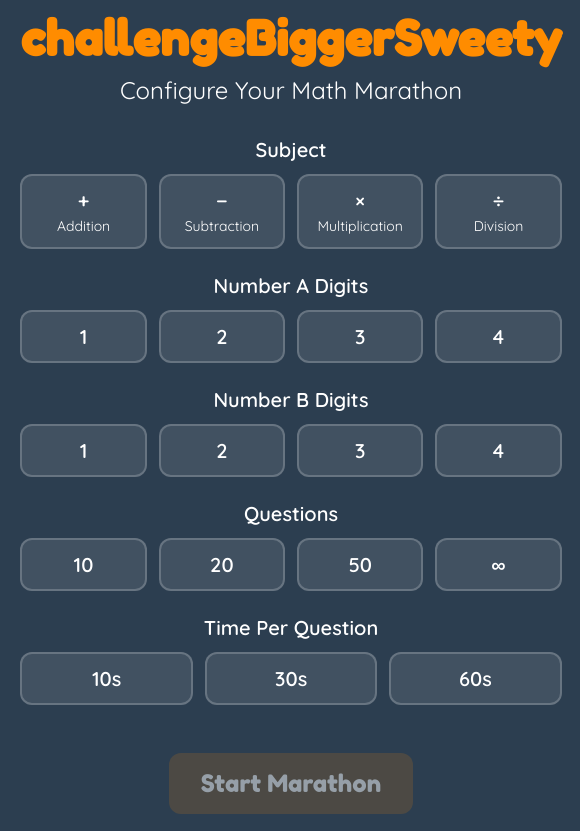
Test: ConfigurationSuite › Start Button Enable/Disable Logic › should enable start button when all parameters are selected
Select all parameters
Click the text "Addition": [84, 226] box [57,216,110,234]
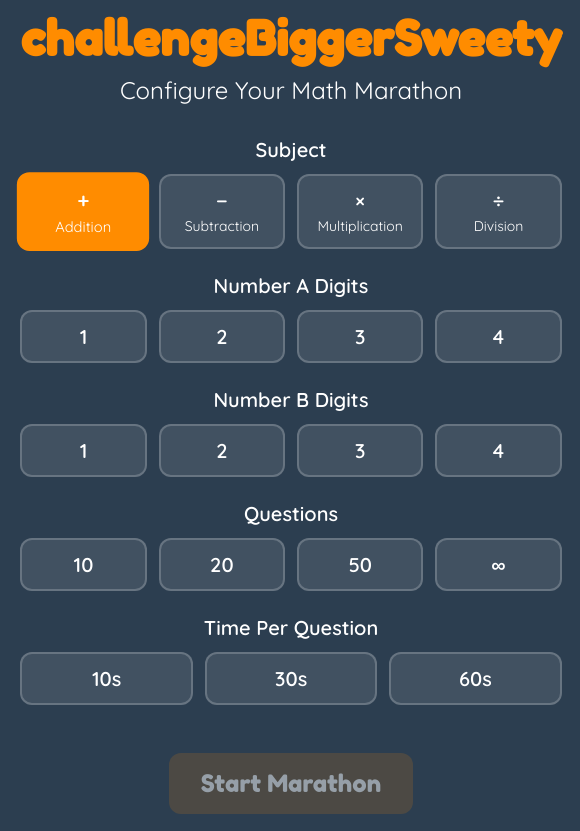
Click the button "2" below "Number A Digits": [222, 336] box [159,310,285,362]
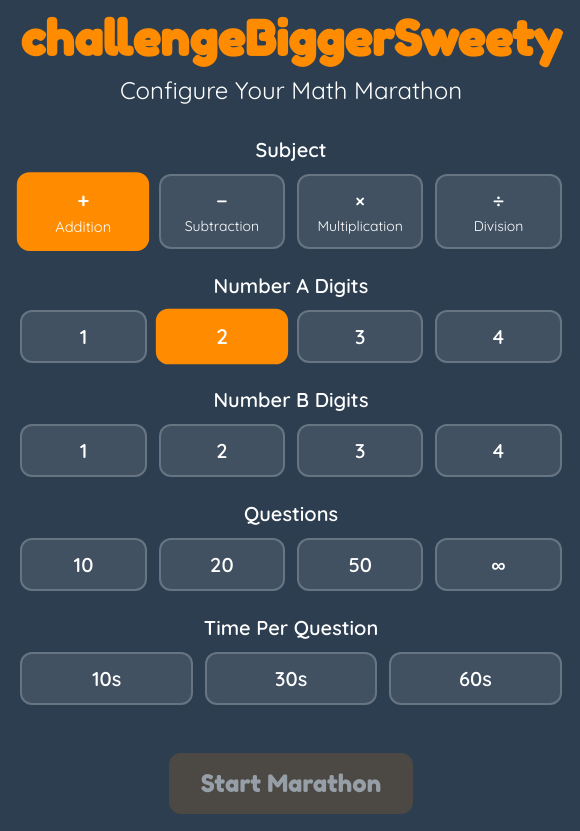
Click the button "2" below "Number B Digits": [222, 450] box [159,424,285,476]
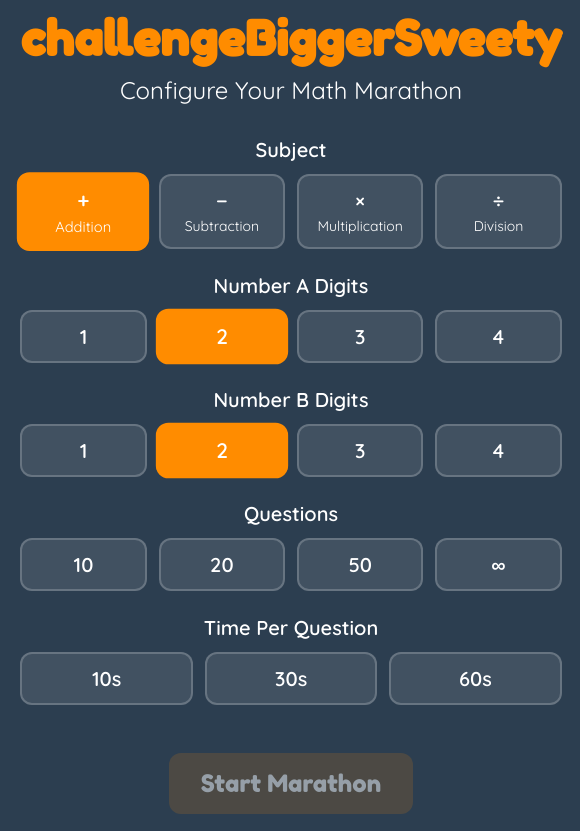
Click the button "20": [222, 564] box [159,538,285,590]
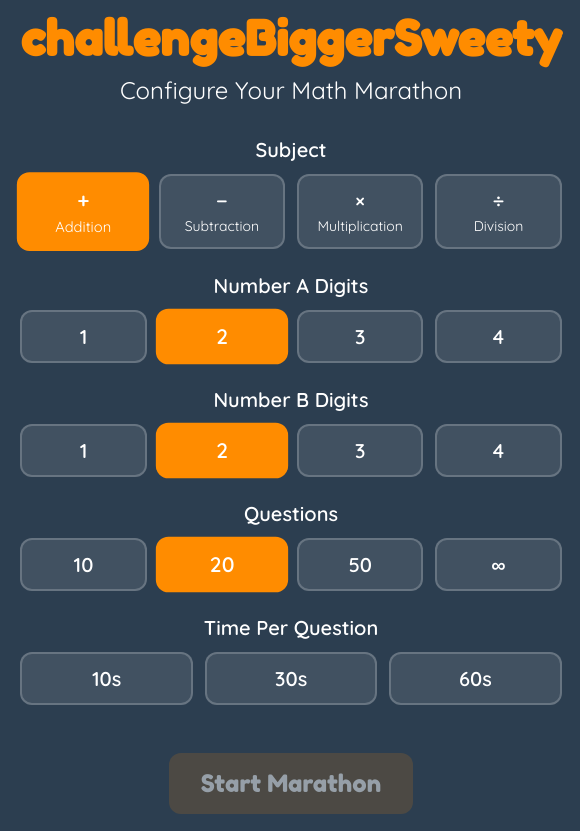
Click the button "30s": [291, 678] box [205,652,377,704]
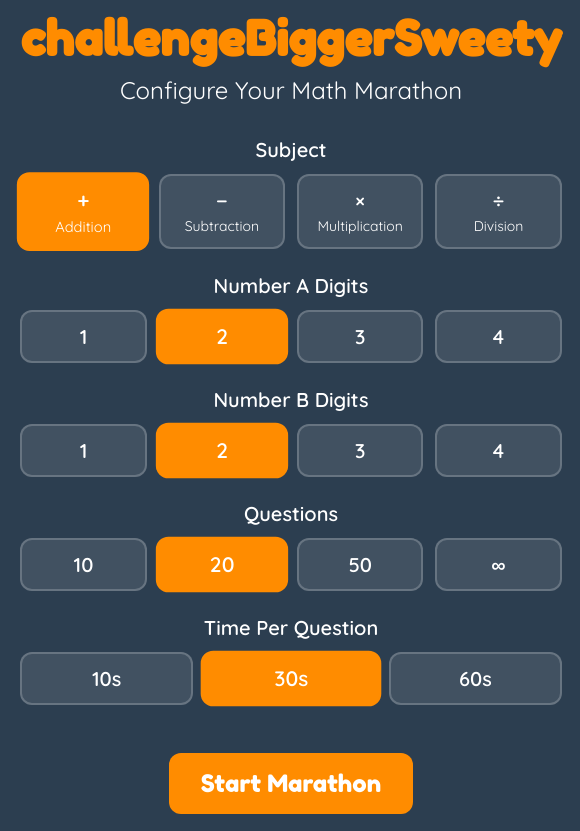
Expected: the button "Start Marathon" is enabled, [169,752,413,814]
